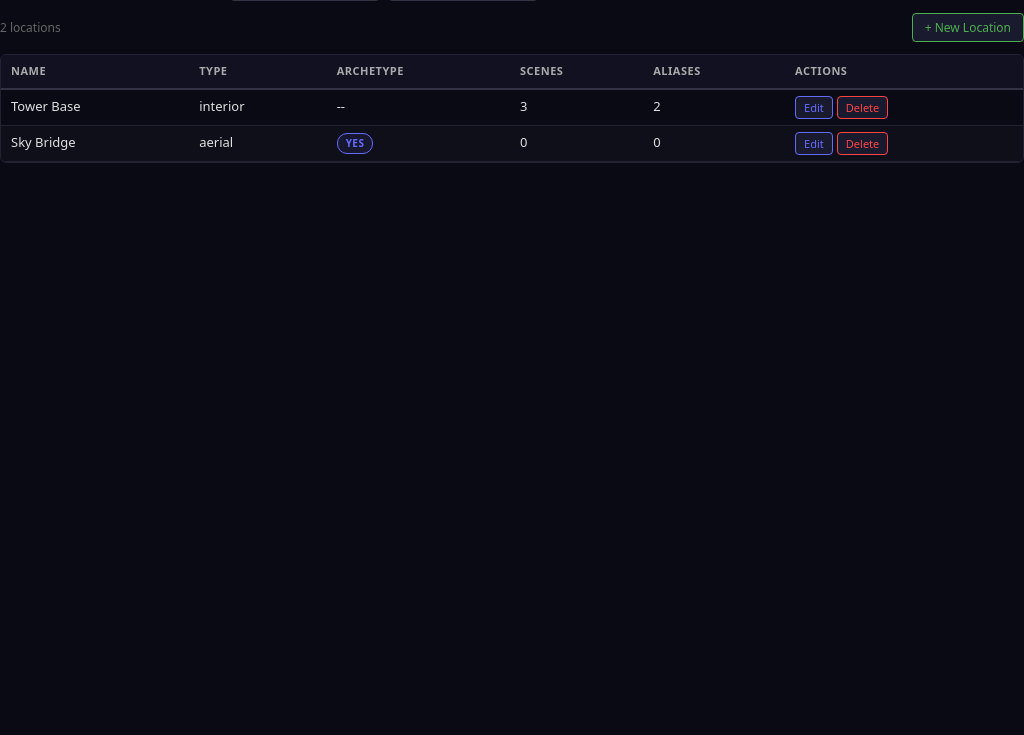
Scenario: LocationEditor › shows scene appearances (read-only)
This screenshot has width=1024, height=735.
Expected: the text "Tower Base" is shown, [1,88,189,125]
Click the button "Edit" in the row of "Tower Base". click: (814, 107)
box: [795,96,833,118]
(page scrolled)
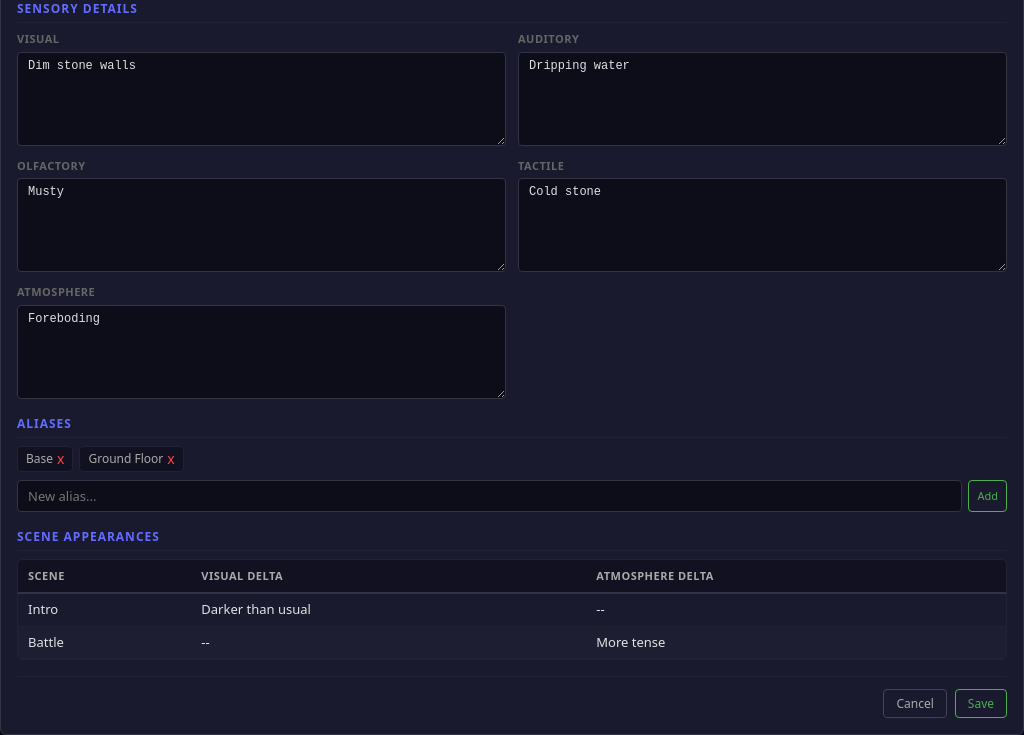
Now the text "Scene Appearances" is shown, box [17,528,1007,550]
Now the text "Intro" is shown, box [18,593,191,626]
Now the text "Darker than usual" is shown, box [191,593,586,626]
